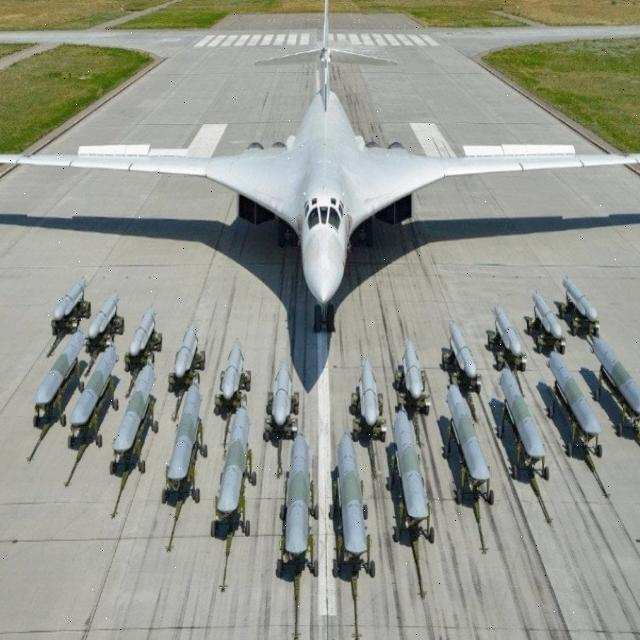Tu160: (5, 8, 640, 358)
